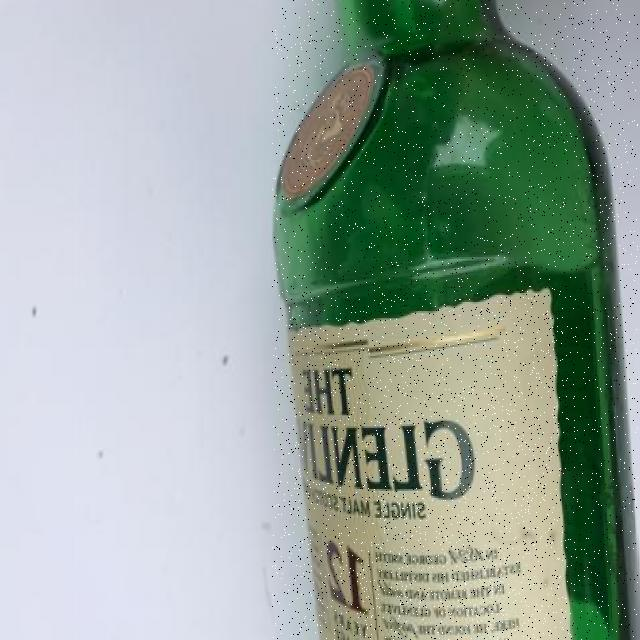glass: (273, 0, 638, 640)
paper: (290, 290, 568, 640)
